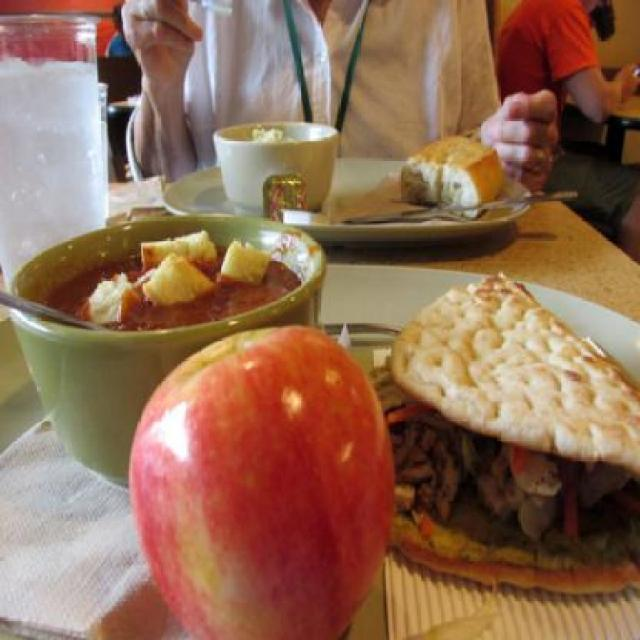Apple pie: (128, 324, 404, 636)
